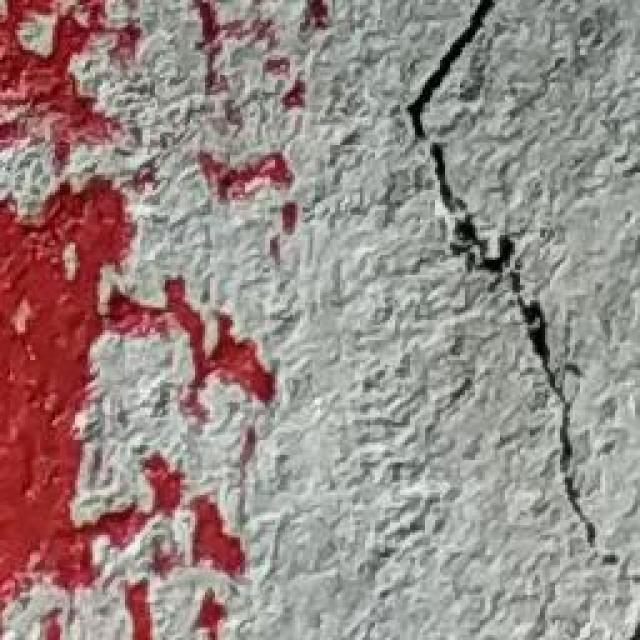Longitudinal: (402, 12, 603, 623)
